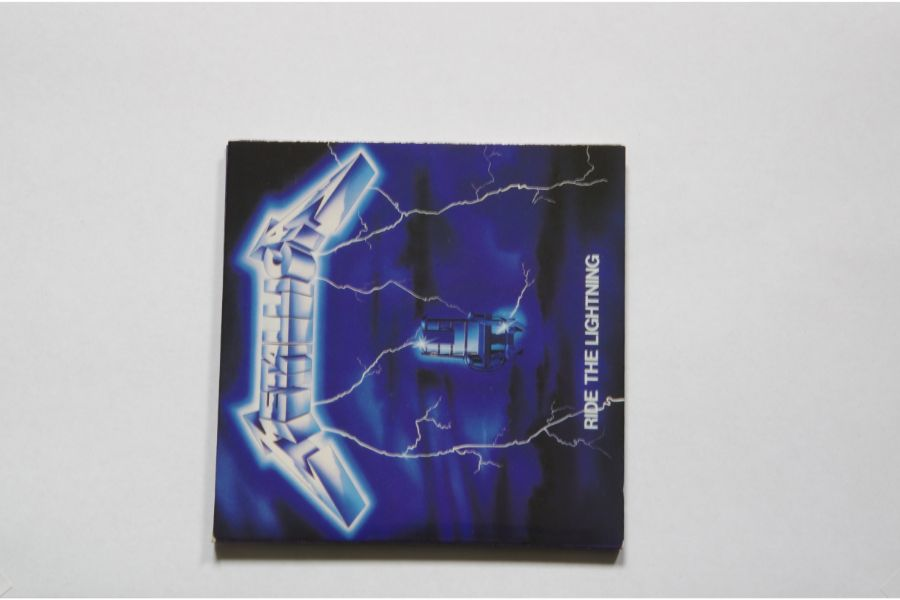album: (213, 141, 623, 553)
